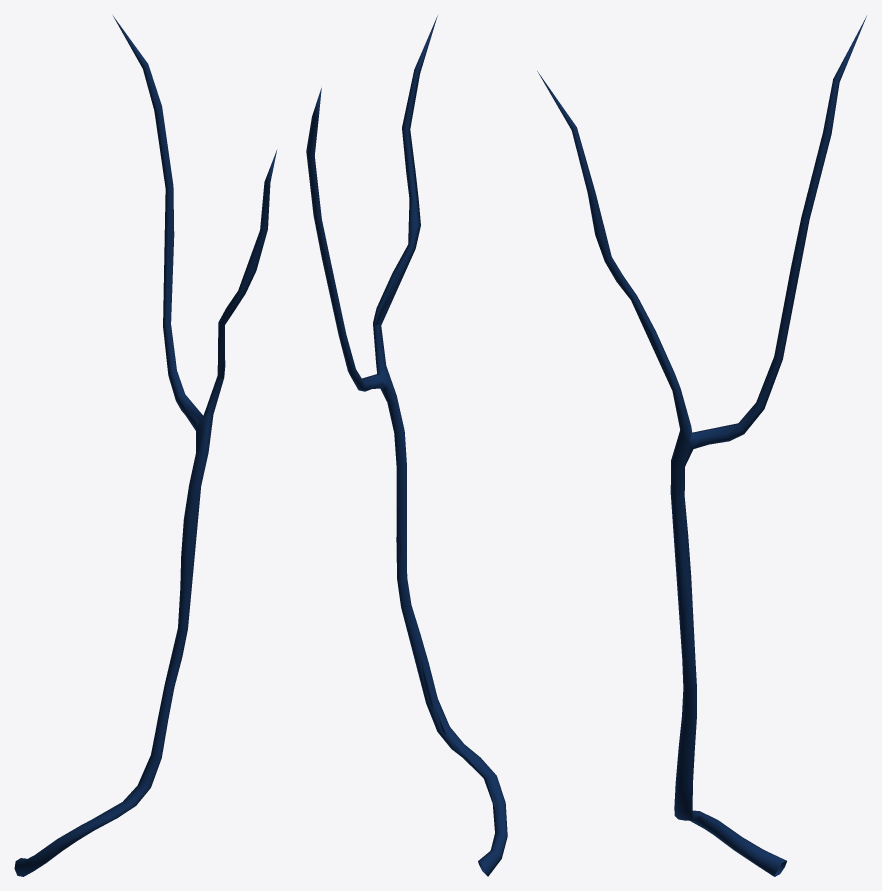
File: vena scapularis dorsalis.fbx
The picture shows the model from 3 angles, left to right: view 1: azimuth 30°, elevation 25°; view 2: azimuth 150°, elevation 25°; view 3: azimuth 270°, elevation 25°; orthographic projection. The views are drawn at different scales.
Parts seen in each view (by area): view 1: vena scapularis dorsalis, vena scapularis dorsalis low; view 2: vena scapularis dorsalis, vena scapularis dorsalis low; view 3: vena scapularis dorsalis, vena scapularis dorsalis low.
Boxes of the visible parts, left/top/right/bottom form: vena scapularis dorsalis: left=14, top=16, right=277, bottom=876; vena scapularis dorsalis low: left=17, top=71, right=267, bottom=875; vena scapularis dorsalis: left=306, top=15, right=507, bottom=876; vena scapularis dorsalis low: left=306, top=85, right=506, bottom=876; vena scapularis dorsalis: left=537, top=16, right=866, bottom=876; vena scapularis dorsalis low: left=577, top=81, right=839, bottom=876.
Bounding box in the file's own units: 4.13 × 18.29 × 5.87.
